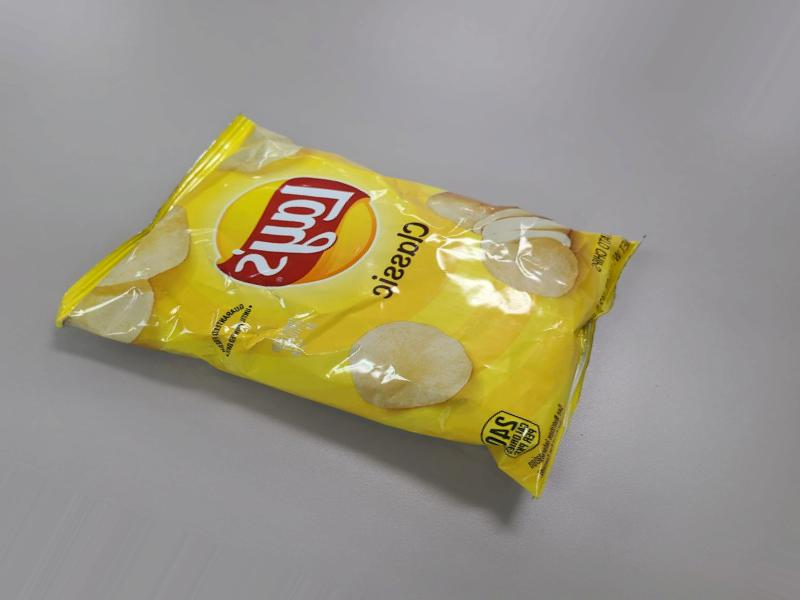lays: (157, 111, 617, 517)
